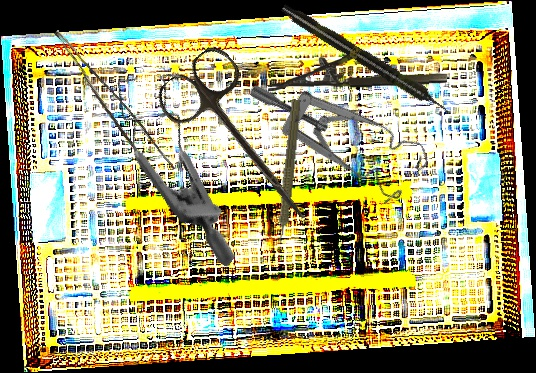Handpiece: (278, 0, 453, 119), (270, 98, 304, 248)
Iris Scissors: (150, 40, 340, 244)
Needle Holder: (266, 48, 448, 92)
Speculum: (65, 49, 302, 268), (247, 27, 439, 230)
Tissue Forceps: (38, 29, 180, 183)
